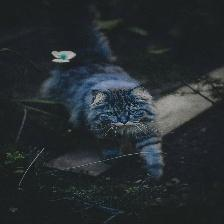kedo: (90, 84, 163, 178)
